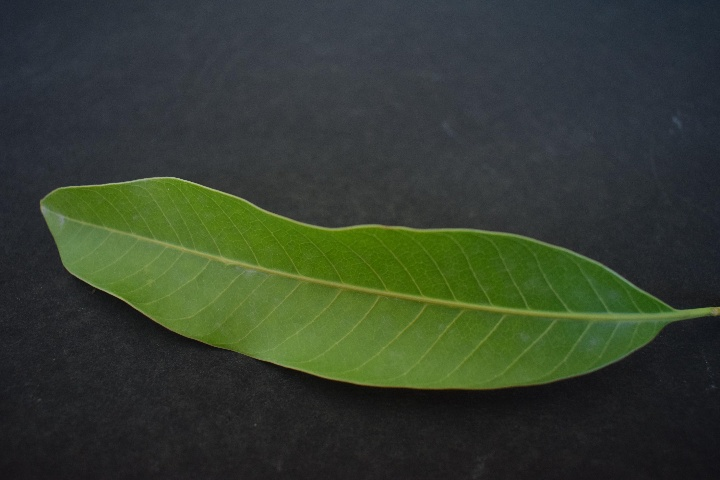healthy: (46, 171, 665, 390)
